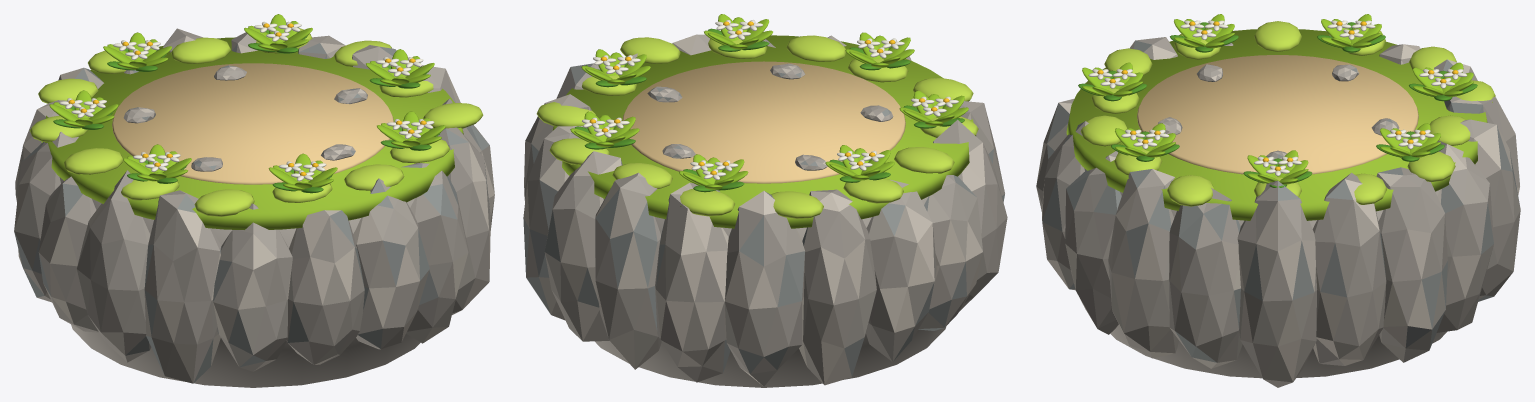
The model's file is island_small.glb.
The picture shows the model from 3 angles, left to right: view 1: azimuth 30°, elevation 25°; view 2: azimuth 150°, elevation 25°; view 3: azimuth 270°, elevation 25°; orthographic projection.
Parts seen in each view (by area): view 1: island_small; view 2: island_small; view 3: island_small.
Part boxes in pixels (left/top/right/bottom): island_small: left=14, top=14, right=494, bottom=387; island_small: left=523, top=14, right=1007, bottom=387; island_small: left=1036, top=14, right=1520, bottom=387.
Bounding box in the file's own units: 3.63 × 1.78 × 3.61.
